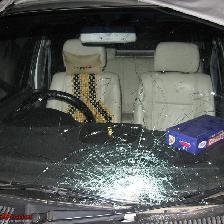glass_shatter: (15, 107, 204, 224)
